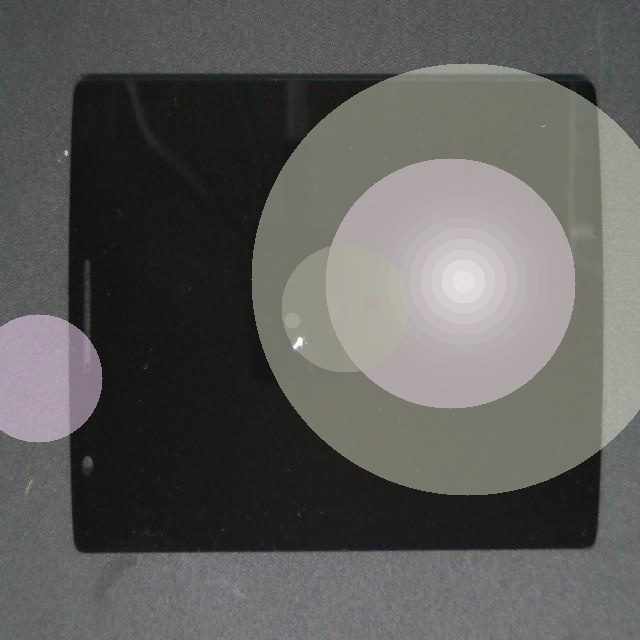stain: (170, 180, 474, 496)
